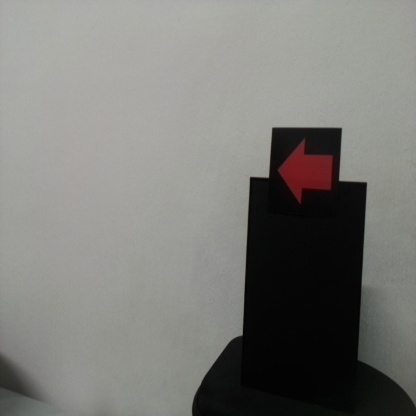id_4: (271, 128, 341, 219)
